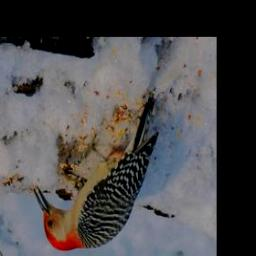Woodpecker: (32, 88, 162, 253)
